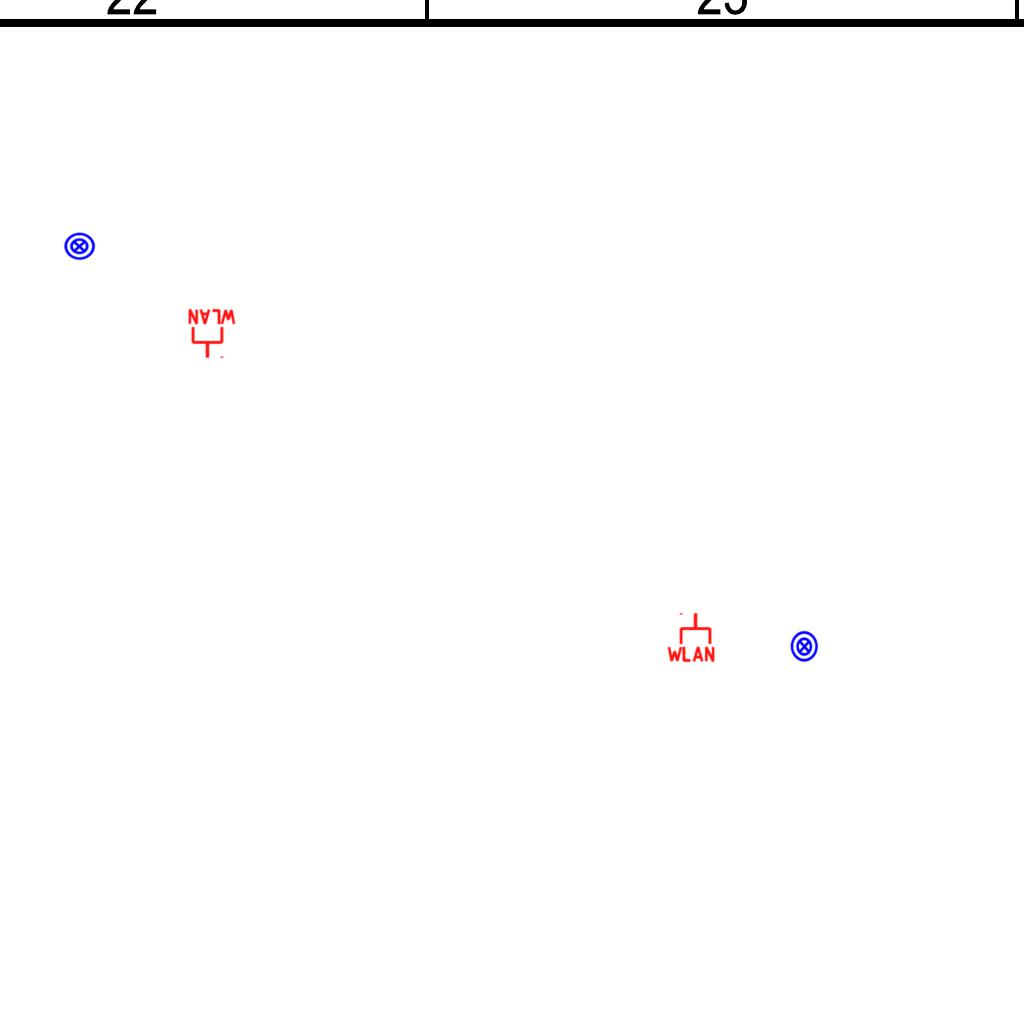Taster_beleuchtet: (63, 230, 96, 263), (788, 630, 821, 663)
WLAN: (665, 611, 717, 663), (186, 308, 238, 360)
